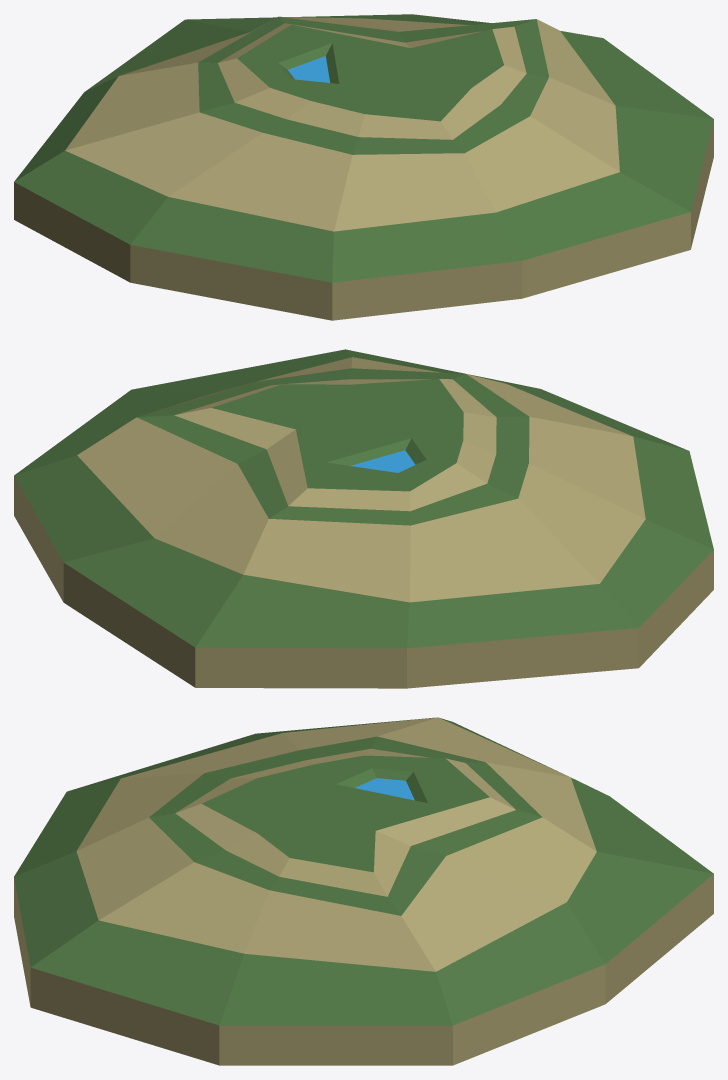
Rendered from Island.glb.
3 renders of one model, top to bottom at view 1: azimuth 30°, elevation 25°; view 2: azimuth 150°, elevation 25°; view 3: azimuth 270°, elevation 25°, orthographic. The views are drawn at different scales.
Parts seen in each view (by area): view 1: Island; view 2: Island; view 3: Island.
Boxes of the visible parts, bbox=[...] form: Island: bbox=[14, 14, 713, 320]; Island: bbox=[14, 349, 713, 688]; Island: bbox=[14, 717, 713, 1065].
Size of the model in its own units: 28.6 by 5.13 by 27.86.
